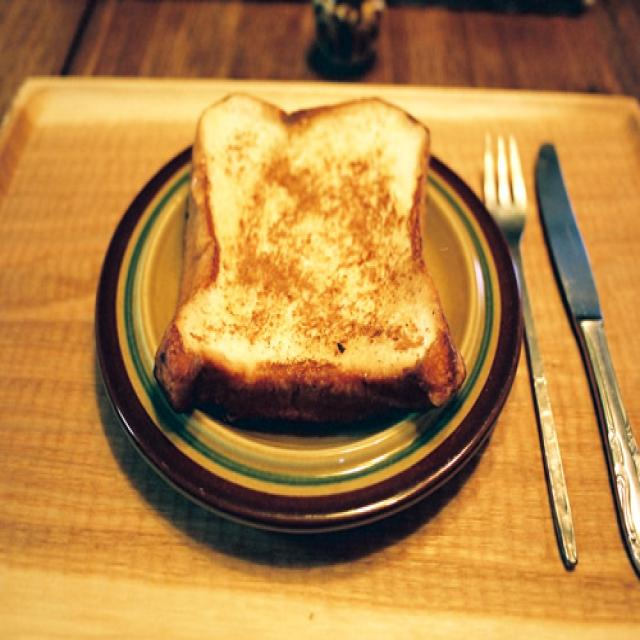面包点心: (144, 68, 464, 422)
